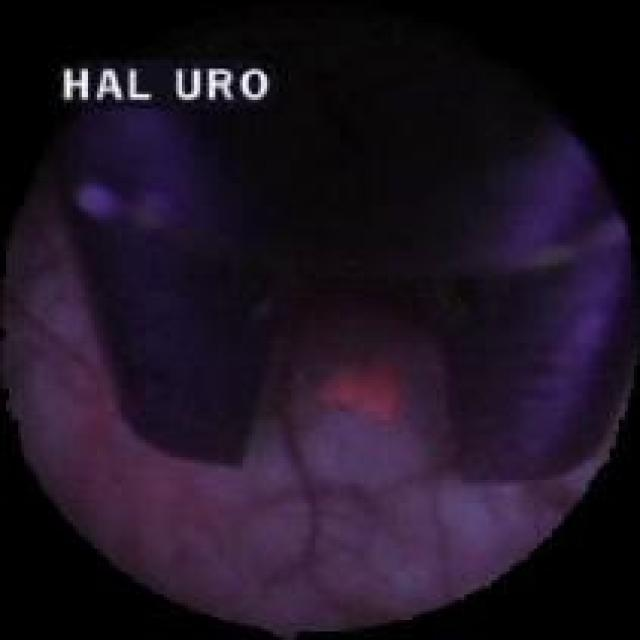color misalignment: (54, 62, 276, 113)
contrast: (48, 54, 618, 468)
instrument: (49, 49, 626, 477)
